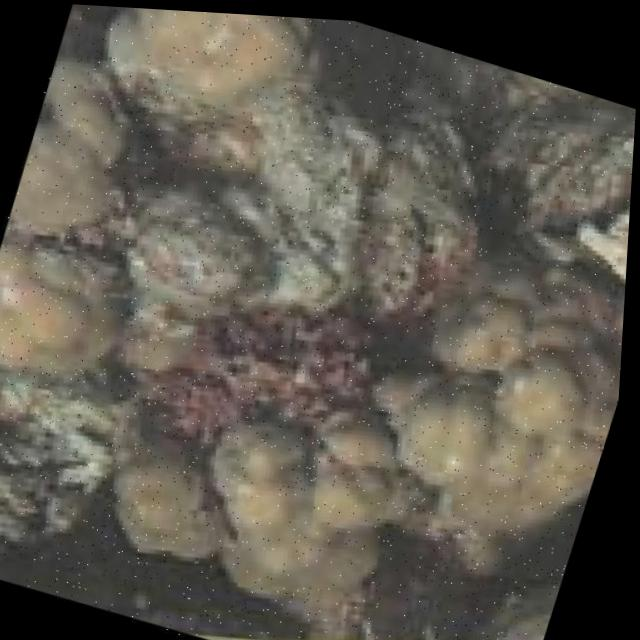Healthy Coral: (90, 358, 425, 640), (369, 259, 629, 565), (131, 252, 406, 501), (0, 45, 177, 272), (83, 4, 334, 150), (0, 238, 148, 403)
